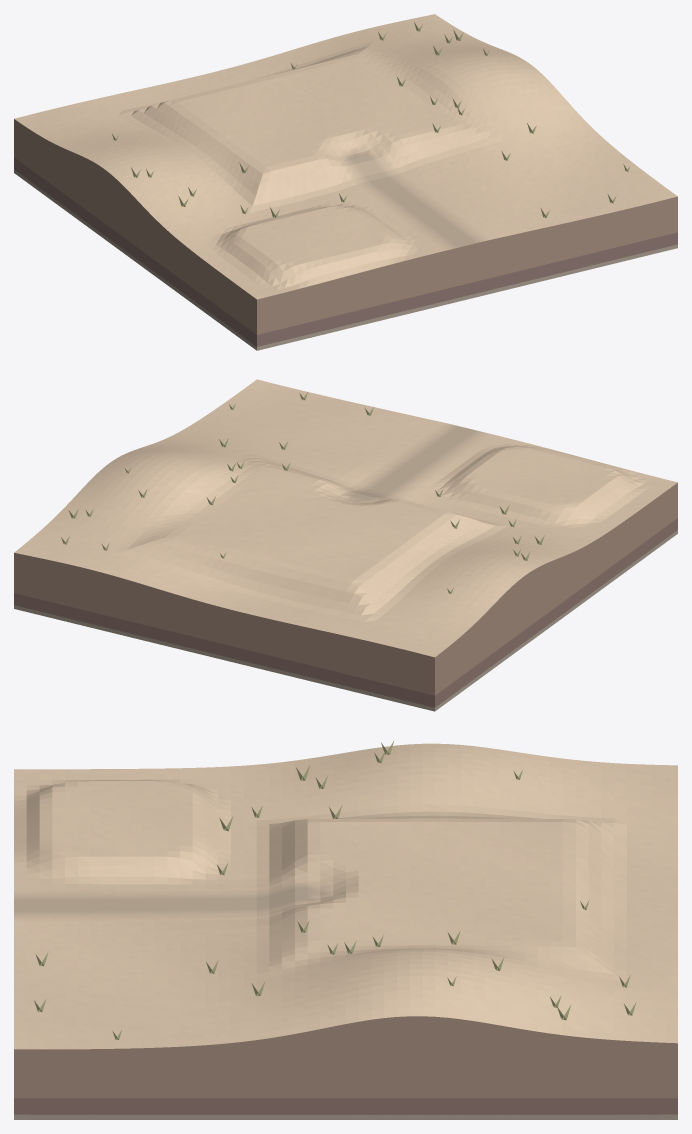
3 views of the same model, one above another, from view 1: azimuth 30°, elevation 25°; view 2: azimuth 150°, elevation 25°; view 3: azimuth 270°, elevation 25° (orthographic). The views are drawn at different scales.
Visible parts, largest first — view 1: proc_ground, proc_skirt, proc_grass; view 2: proc_ground, proc_skirt, proc_grass; view 3: proc_ground, proc_skirt, proc_grass.
Boxes of the visible parts, x1,y1,x2,y2 form: proc_ground: [14, 14, 677, 299]; proc_skirt: [14, 119, 677, 350]; proc_grass: [112, 22, 630, 217]; proc_ground: [14, 379, 677, 657]; proc_skirt: [14, 482, 677, 711]; proc_grass: [61, 392, 544, 593]; proc_ground: [14, 743, 677, 1049]; proc_skirt: [14, 1016, 677, 1119]; proc_grass: [34, 741, 636, 1039].
Bounding box in the file's own units: 8 × 1.63 × 8.
